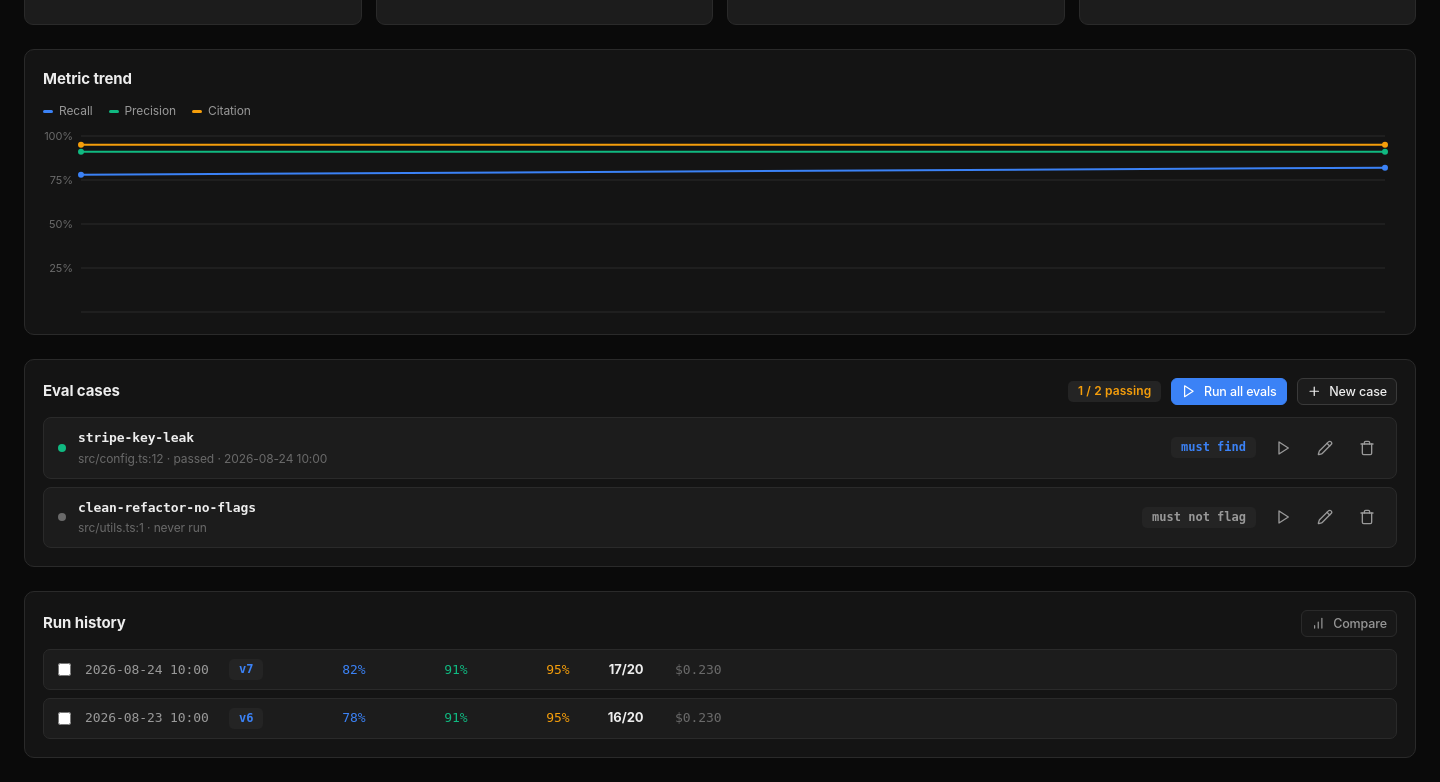
Test: EvalsTab › enables Compare only after selecting two runs, then shows the deltas modal
(page scrolled)
Expected: the button "Compare" is disabled, left=1301, top=610, right=1397, bottom=637
Click the checkbox labelled "2026-08-24 10:00 v7 82% 91% 95% 17/20 $0.230" at (64, 669), box left=58, top=663, right=71, bottom=676
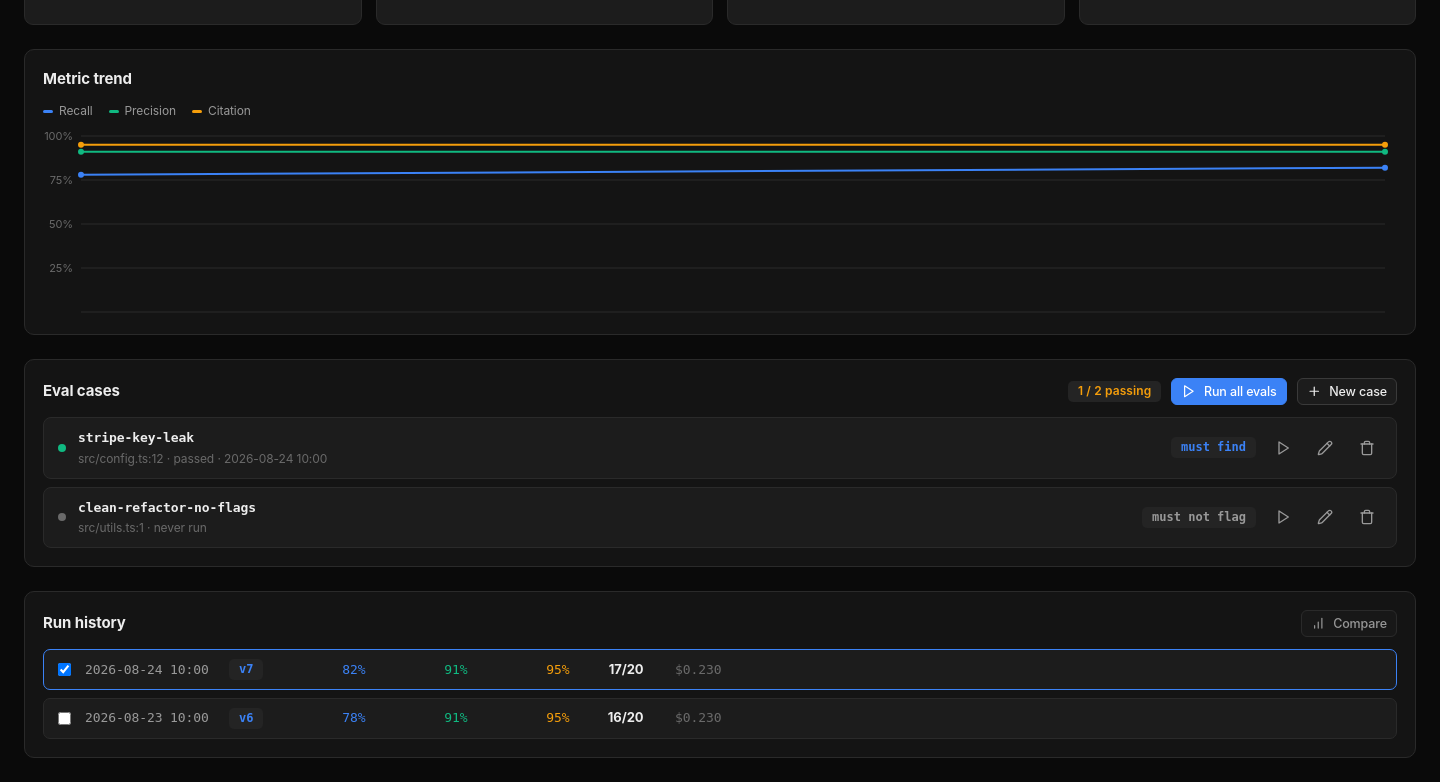
Click the checkbox labelled "2026-08-23 10:00 v6 78% 91% 95% 16/20 $0.230" at (64, 718), box left=58, top=712, right=71, bottom=725
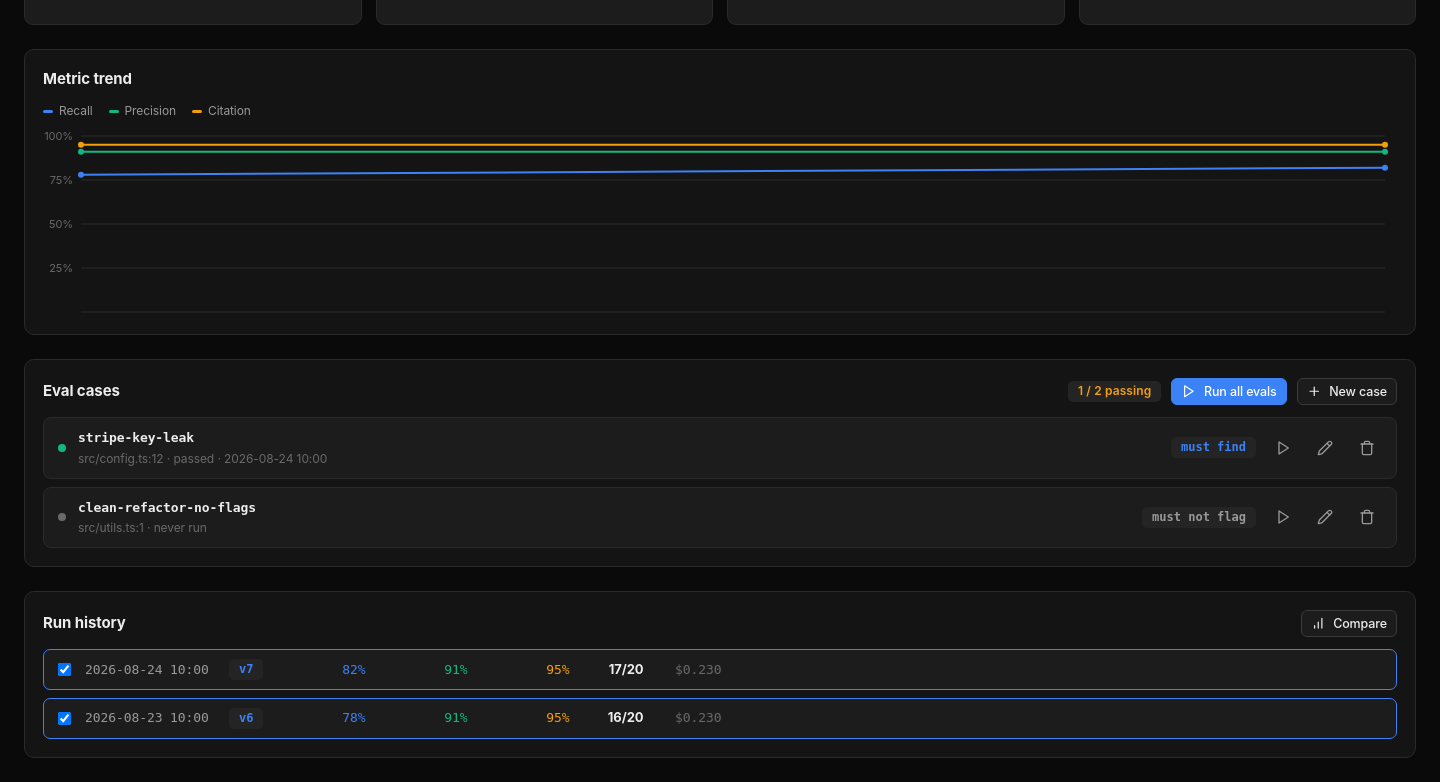
Now the button "Compare" is enabled
Click the button "Compare" at (1349, 624), box left=1301, top=610, right=1397, bottom=637
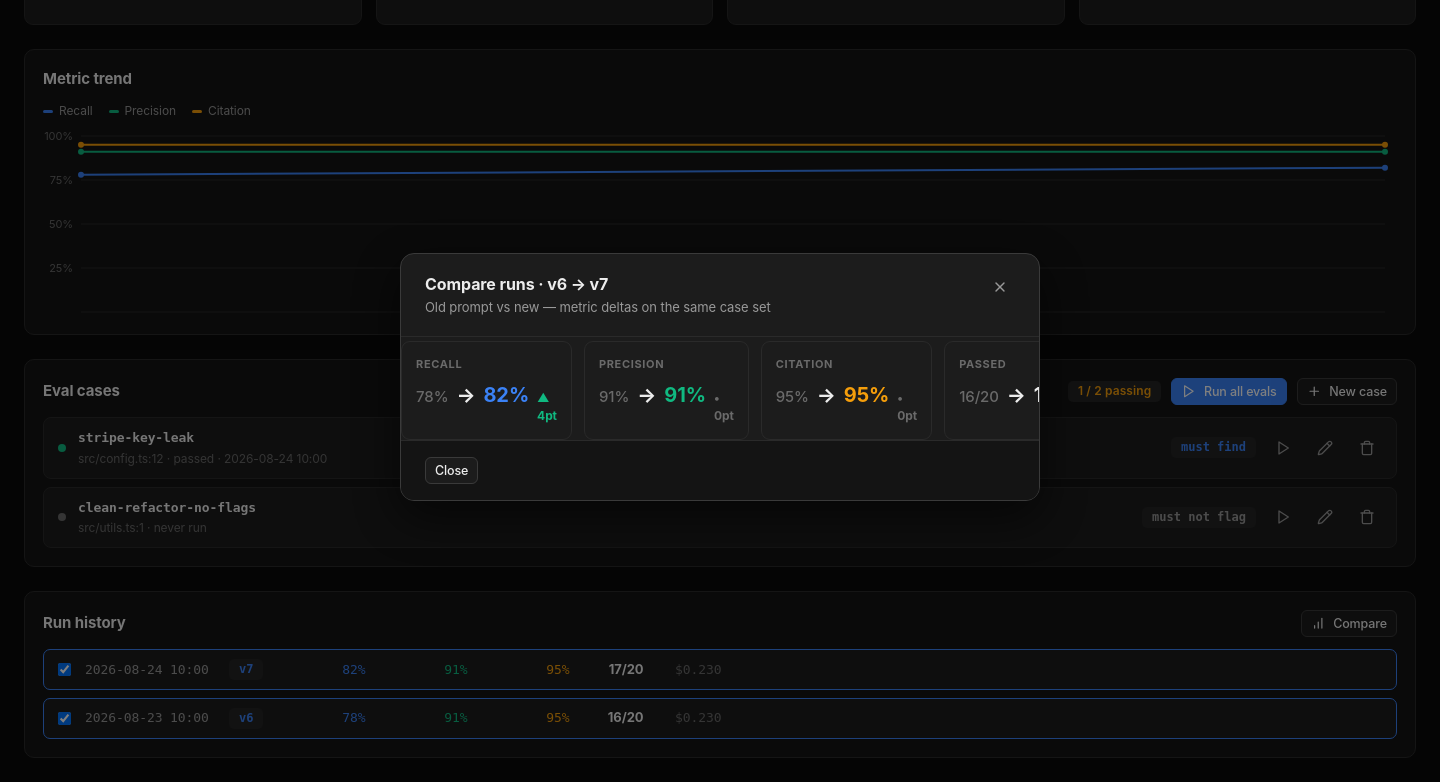
Now the text "Compare runs · v6 → v7" is shown, box left=425, top=274, right=608, bottom=294
Now the text "▲ 4pt" is shown, box left=537, top=389, right=557, bottom=425
